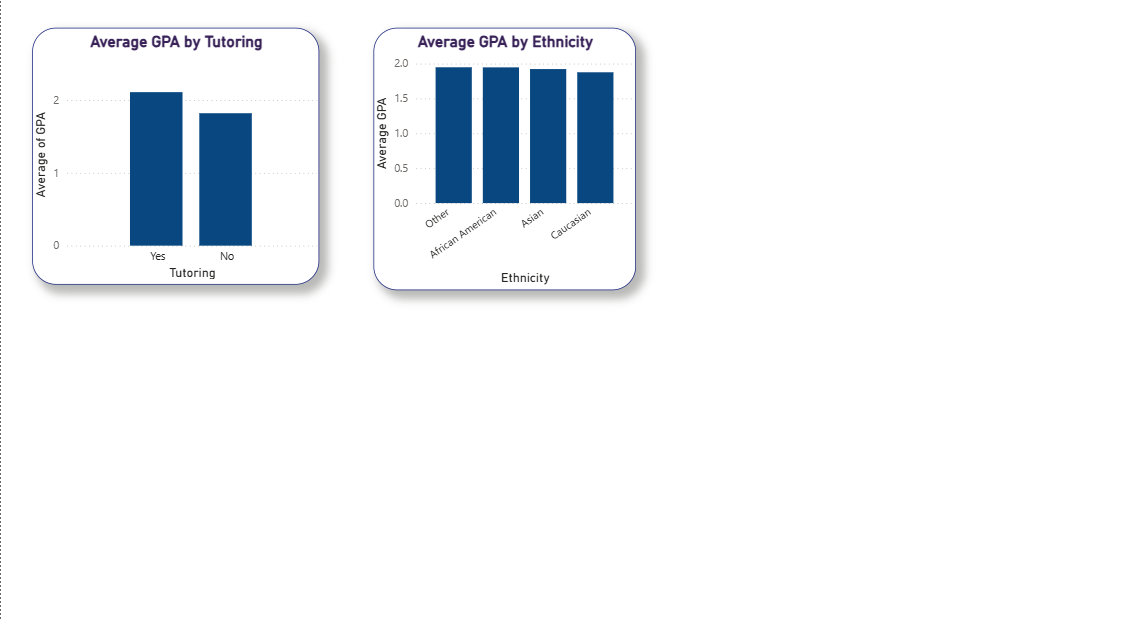

What the dashboard file says about the page in this screenshot:
{"tool":"powerbi","page":{"name":"Page 2","canvas":[1280,720],"ordinal":1},"visuals":[{"type":"clusteredColumnChart","title":"Average GPA by Tutoring","fields":{"Category":["Student_performance_data _.Tutoring"],"Y":["Avg(Student_performance_data _.GPA)"]},"box":[35.7,32.9,328,293.7],"z":0},{"type":"clusteredColumnChart","fields":{"Y":["Avg(Student_performance_data _.GPA)"],"Category":["Student_performance_data _.Ethnicity"]},"box":[425.7,32.9,300,300],"z":2}]}

Visuals, with their boxes in screenshot pixels (x1, y1, x2, y2), scaled from the page's 1280x720 canvas onto the 1121x621 screenshot:
"Average GPA by Tutoring" clusteredColumnChart: region(31, 28, 319, 282)
clusteredColumnChart - Avg(Student_performance_data _.GPA) x Student_performance_data _.Ethnicity: region(373, 28, 636, 287)
